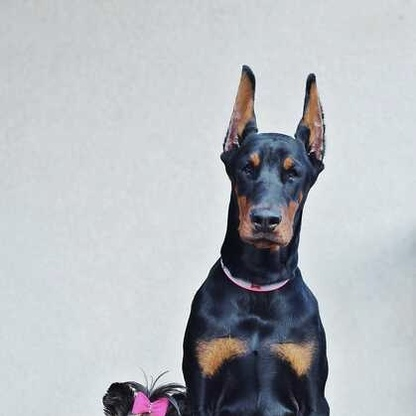doberman: (180, 62, 339, 416)
